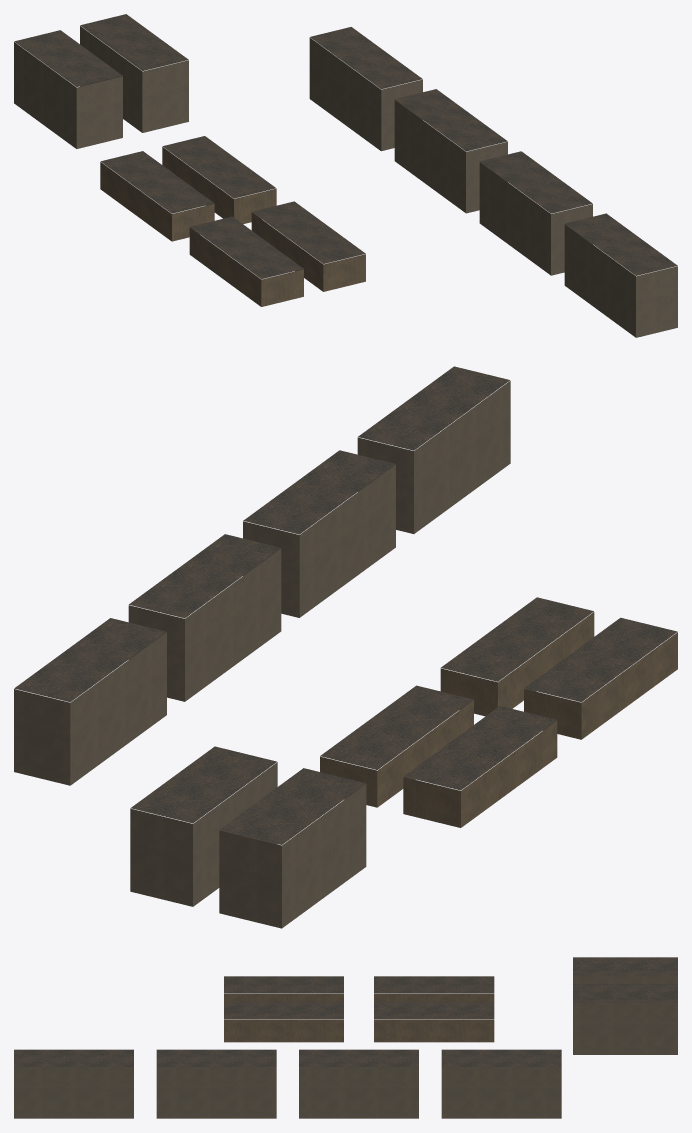
File: batehams_yard_1871__yard_1871.glb
3 renders of one model, top to bottom at view 1: azimuth 30°, elevation 25°; view 2: azimuth 150°, elevation 25°; view 3: azimuth 270°, elevation 25°, orthographic. The views are drawn at different scales.
Parts seen in each view (by area): view 1: batehams_yard_1871__yard_1871; view 2: batehams_yard_1871__yard_1871; view 3: batehams_yard_1871__yard_1871.
Boxes of the visible parts, bbox=[...] form: batehams_yard_1871__yard_1871: bbox=[14, 14, 677, 337]; batehams_yard_1871__yard_1871: bbox=[14, 366, 677, 928]; batehams_yard_1871__yard_1871: bbox=[14, 957, 677, 1118].
Size of the model in its own units: 37.6 by 7.64 by 88.5.
Materials: 3 (3 with a texture image).
